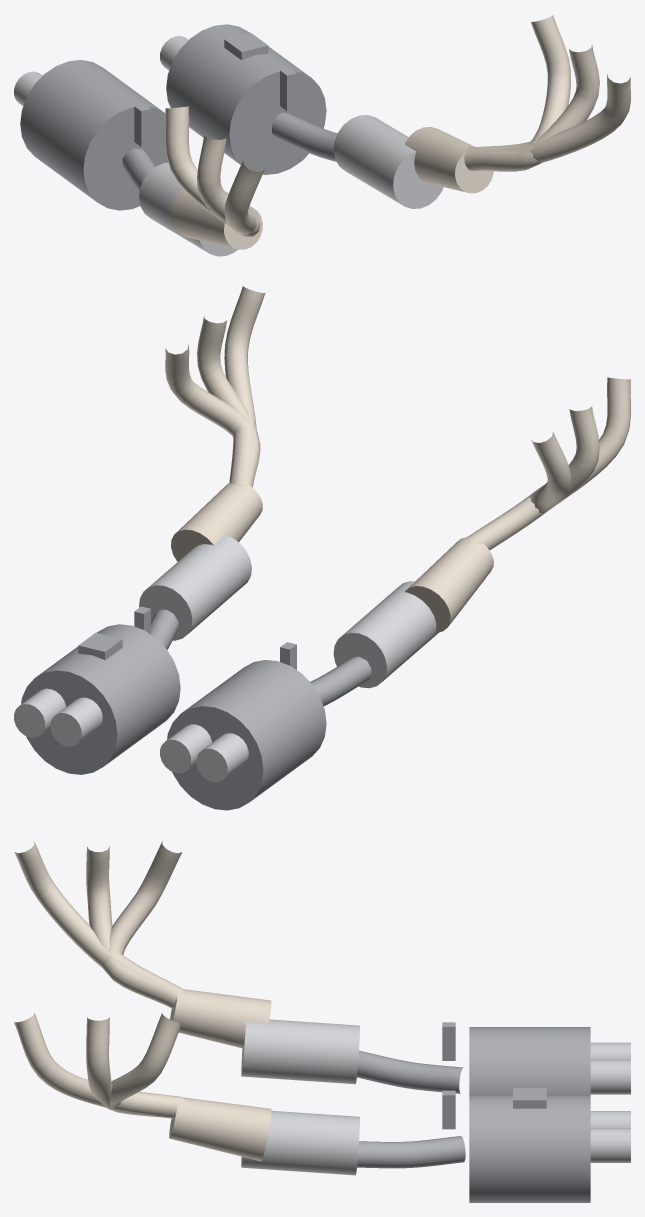
The model's file is exhaust.glb.
The picture shows the model from 3 angles, top to bottom: view 1: azimuth 30°, elevation 25°; view 2: azimuth 150°, elevation 25°; view 3: azimuth 270°, elevation 25°; orthographic projection. The views are drawn at different scales.
Visible parts, largest first — view 1: muffler_L, muffler_R, cat_R, primary_R_0, collector_R, primary_R_2, collector_L, primary_R_1, cat_L, primary_L_0, midpipe_R, primary_L_1 (+7 smaller); view 2: muffler_L, muffler_R, cat_R, cat_L, collector_L, primary_R_2, primary_L_2, collector_R, primary_R_0, primary_R_1, primary_L_0, primary_L_1 (+7 smaller); view 3: muffler_R, muffler_L, cat_L, cat_R, collector_R, primary_L_0, collector_L, primary_L_2, primary_R_2, midpipe_R, midpipe_L, primary_R_0 (+9 smaller).
Boxes of the visible parts, x1,y1,x2,y2 form: muffler_L: (20,60,168,210); muffler_R: (166,24,326,174); cat_R: (333,115,443,208); primary_R_0: (464,15,570,171); collector_R: (404,127,493,193); primary_R_2: (464,74,630,170); collector_L: (171,188,262,249); primary_R_1: (464,45,599,169); cat_L: (139,162,237,256); primary_L_0: (165,106,260,237); midpipe_R: (272,112,337,161); primary_L_1: (197,135,254,235); muffler_L: (167,660,326,810); muffler_R: (21,624,180,774); cat_R: (139,535,251,640); cat_L: (333,581,438,688); collector_L: (405,537,493,632); primary_R_2: (224,286,265,486); primary_L_2: (465,377,630,549); collector_R: (171,482,262,561); primary_R_0: (165,344,260,487); primary_R_1: (197,316,255,485); primary_L_0: (467,431,570,550); primary_L_1: (466,406,599,549); muffler_R: (469,1095,590,1202); muffler_L: (469,1027,590,1095); cat_L: (241,1019,359,1084); cat_R: (241,1110,359,1175); collector_R: (169,1097,271,1161); primary_L_0: (102,841,183,1007); collector_L: (170,989,271,1048); primary_L_2: (14,841,184,1008); primary_R_2: (14,1012,183,1118); midpipe_R: (357,1136,465,1168); midpipe_L: (357,1050,463,1093); primary_R_0: (107,1013,184,1117).
Size of the model in its own units: 3.29 by 1.93 by 4.58.
